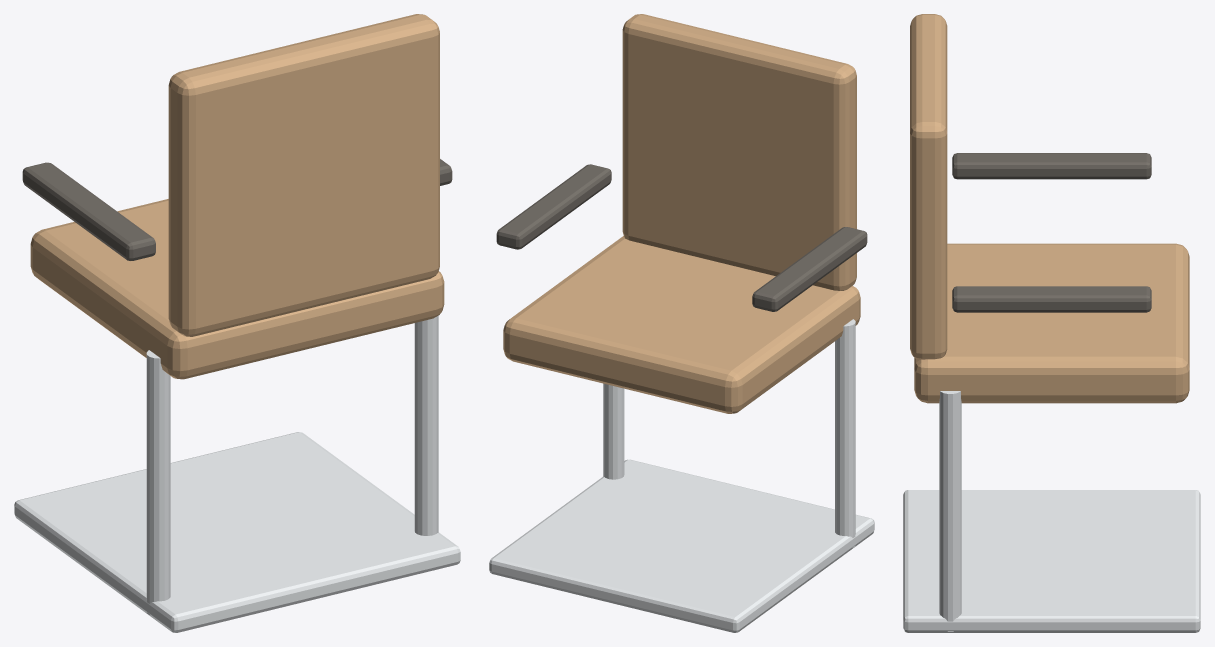
File: doors__entries___window_views_asset_sheet_13.glb
3 renders of one model, left to right at view 1: azimuth 30°, elevation 25°; view 2: azimuth 150°, elevation 25°; view 3: azimuth 270°, elevation 25°, orthographic. The views are drawn at different scales.
Visible parts, largest first — view 1: Cube; view 2: Cube; view 3: Cube.
Boxes of the visible parts, <box> form: Cube: <box>14,14,460,632</box>; Cube: <box>489,14,874,632</box>; Cube: <box>903,14,1200,632</box>.
Size of the model in its own units: 0.554 by 0.885 by 0.4756.
